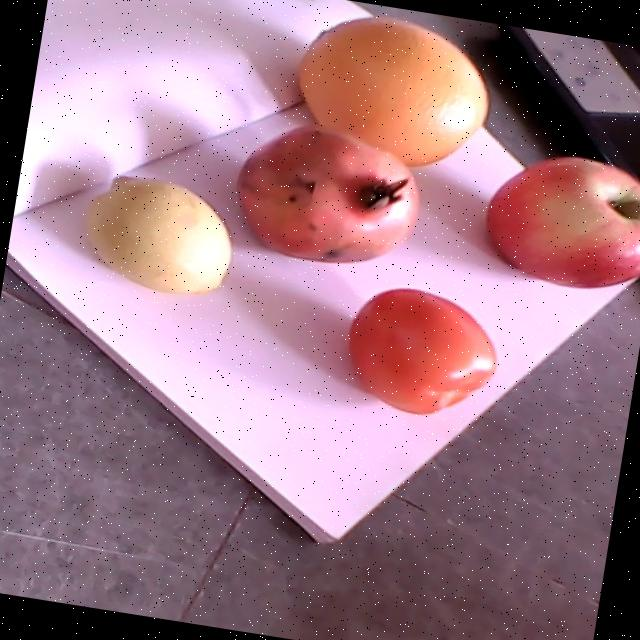apple: (487, 160, 640, 290)
lemon: (86, 173, 232, 295)
orange: (297, 18, 489, 166)
pomegranate: (236, 125, 418, 264)
tomato: (345, 290, 495, 414)
